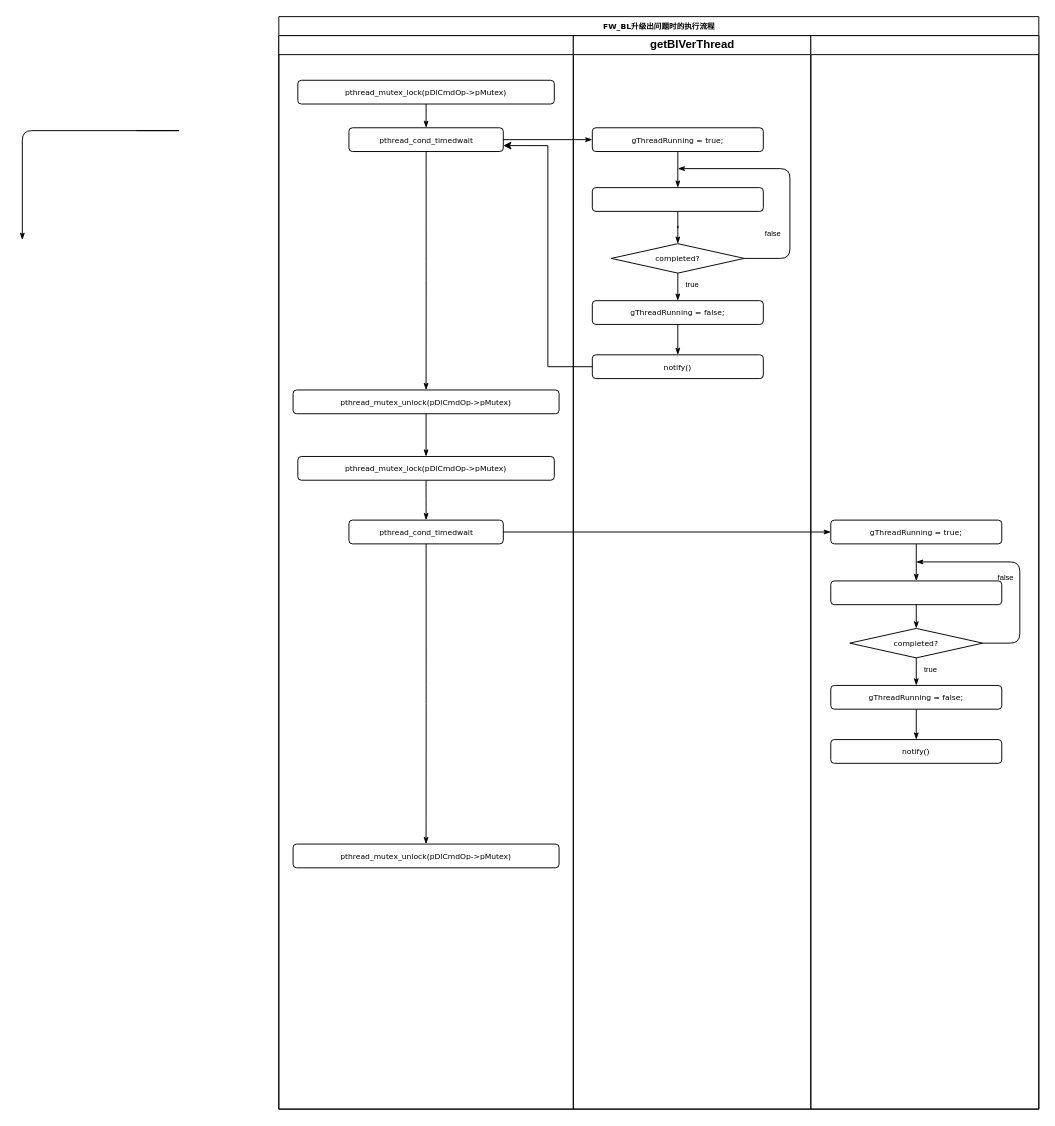
Some shapes in this 1055 by 1126 pixel diagram are drawn without their labels. Here are the shapes that lost their labels. From the top down, the box of each, then its label:
(591, 187, 763, 211): nciCmdProcess()
(278, 35, 573, 1109): Main Thread
(810, 35, 1039, 1109): vtpDownloadThread
(830, 580, 1002, 605): vtpDownload()
